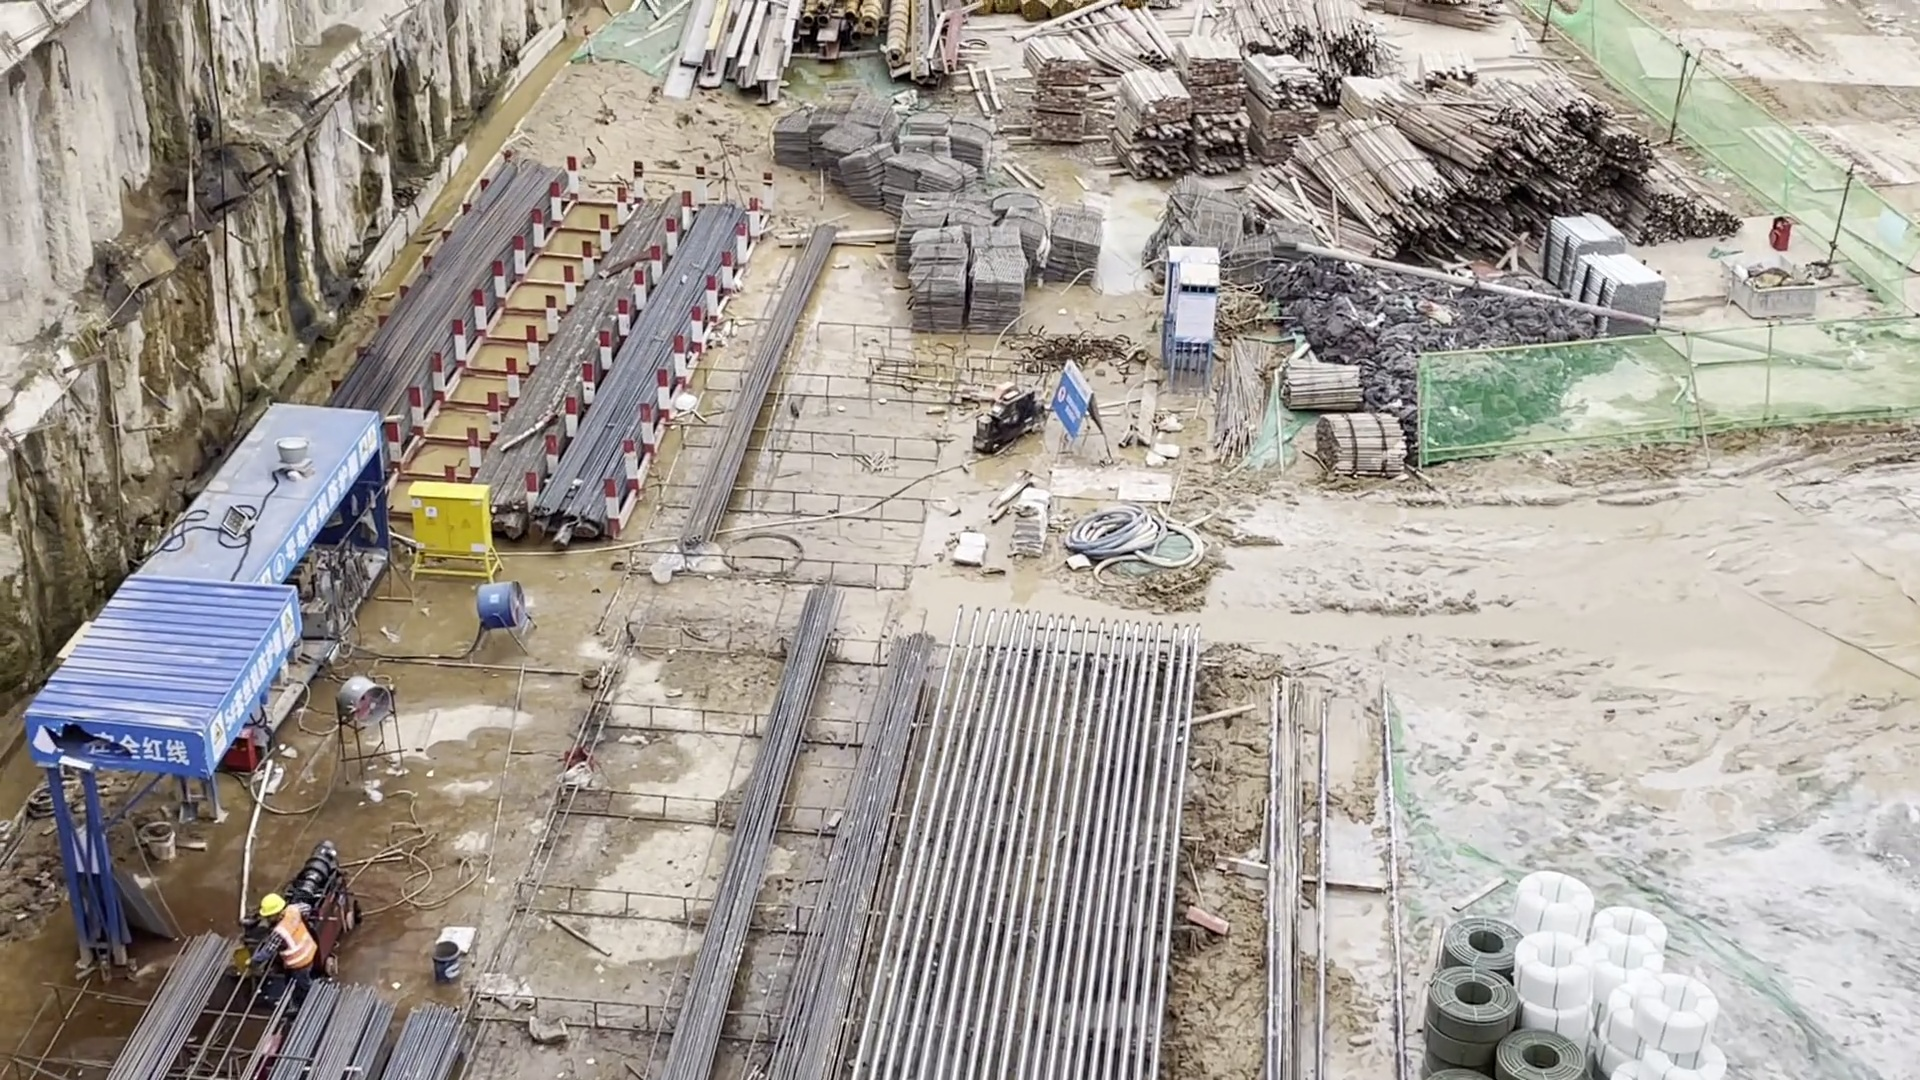brick: (1549, 208, 1677, 336)
ebox: (405, 477, 509, 593)
helmet: (260, 892, 286, 920)
hopper: (1723, 252, 1825, 320)
person: (249, 889, 314, 982)
rebar: (442, 168, 669, 511), (755, 597, 912, 1080), (683, 223, 863, 557), (149, 987, 467, 1080)
slogan: (266, 439, 386, 581), (207, 611, 307, 761), (31, 727, 202, 781)
vest: (276, 916, 321, 971)
wood: (1055, 31, 1662, 205)
